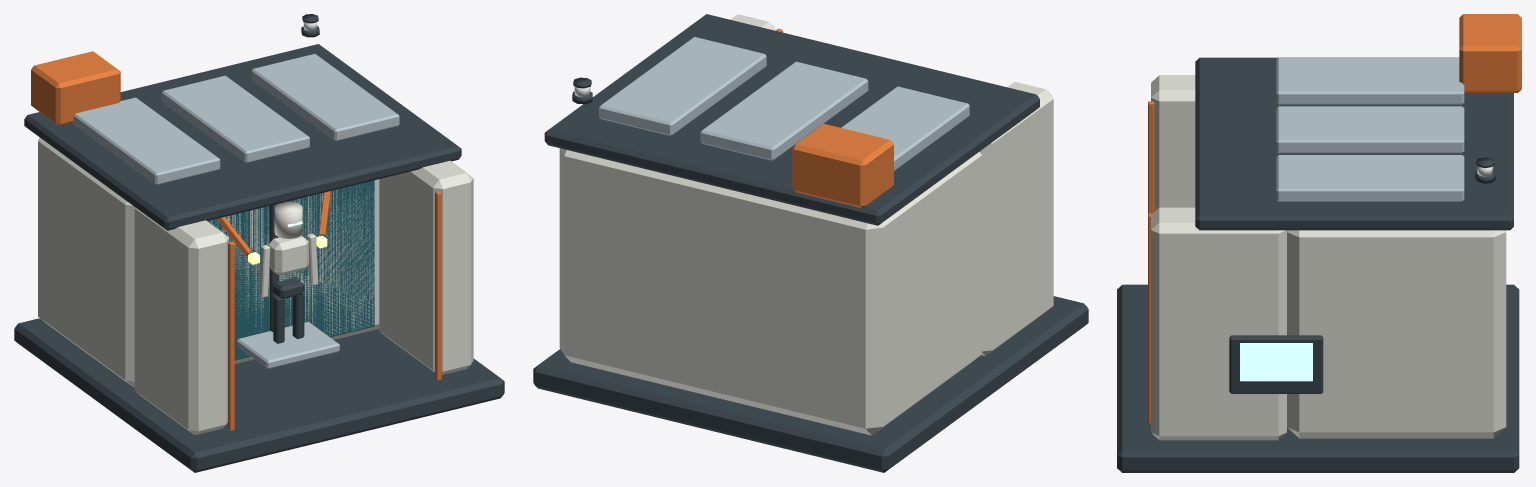
File: foundry.glb
3 renders of one model, left to right at view 1: azimuth 30°, elevation 25°; view 2: azimuth 150°, elevation 25°; view 3: azimuth 270°, elevation 25°, orthographic. The views are drawn at different scales.
Visible parts, largest first — view 1: foundry_ivory, foundry_dark, foundry_metal, foundry_glass, foundry_orange; view 2: foundry_ivory, foundry_dark, foundry_metal, foundry_orange; view 3: foundry_ivory, foundry_dark, foundry_metal, foundry_orange, foundry_cyan.
Boxes of the visible parts, x1,y1,x2,y2 form: foundry_ivory: [38, 138, 473, 435]; foundry_dark: [14, 14, 504, 472]; foundry_metal: [72, 54, 399, 368]; foundry_glass: [207, 180, 374, 360]; foundry_orange: [31, 51, 441, 431]; foundry_ivory: [559, 14, 1053, 435]; foundry_dark: [533, 14, 1088, 472]; foundry_metal: [599, 37, 969, 170]; foundry_orange: [776, 28, 893, 208]; foundry_ivory: [1151, 75, 1506, 440]; foundry_dark: [1117, 57, 1519, 472]; foundry_metal: [1276, 58, 1464, 201]; foundry_orange: [1148, 14, 1521, 423]; foundry_cyan: [1240, 343, 1312, 381].
Size of the model in its own units: 3.85 by 3.2 by 3.87.
